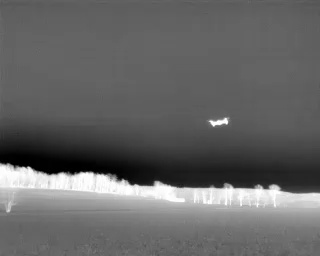DRONE: (204, 112, 235, 133)
